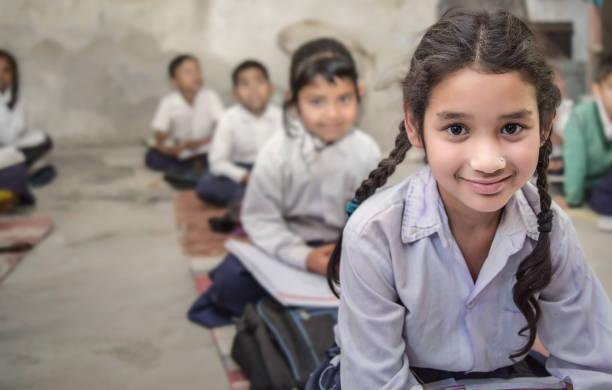Human: (347, 9, 612, 390)
